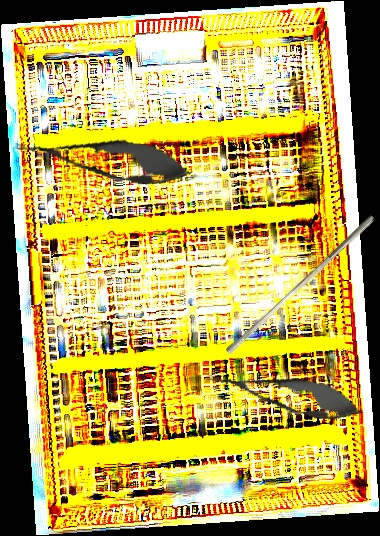Micro Scissor: (11, 124, 196, 194), (202, 358, 368, 430)
Pusher: (224, 208, 377, 361)
